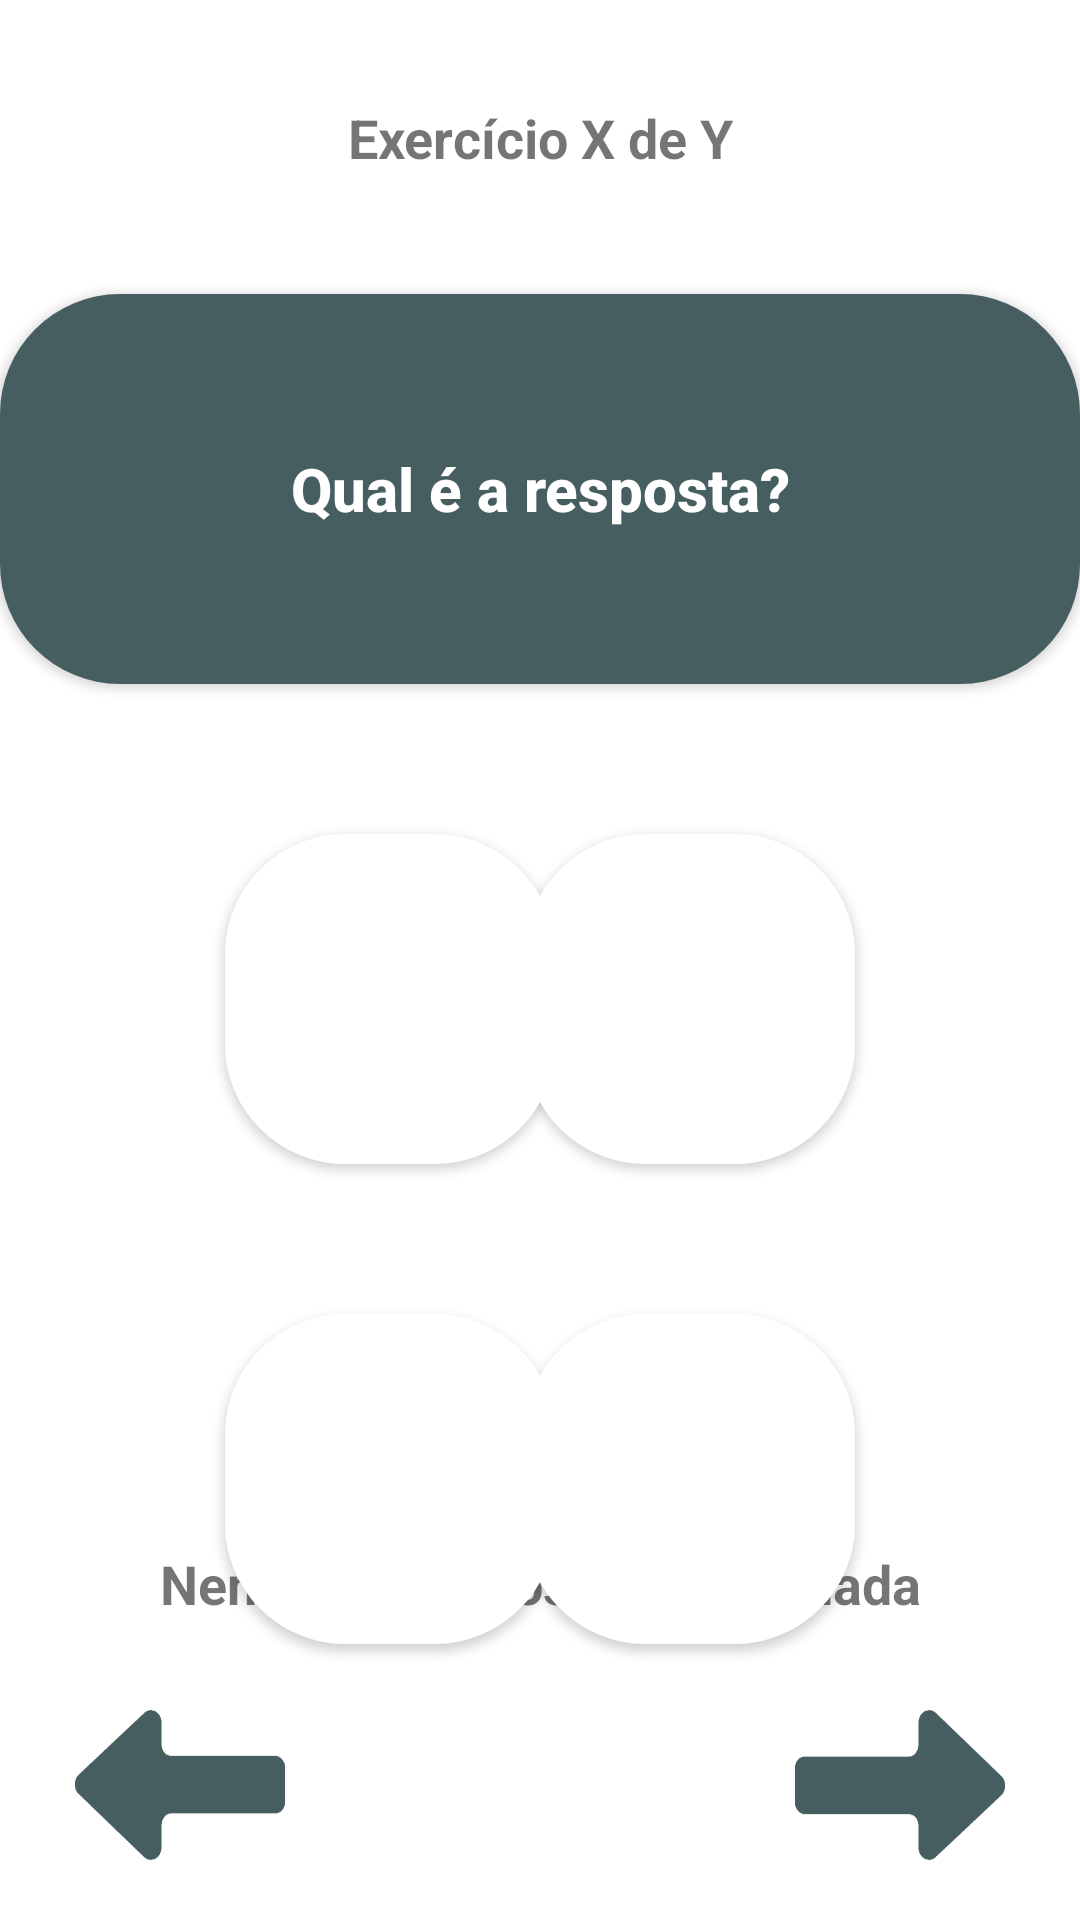

Named icons in this screenshot (1080w x 1920h) and their centers, (x=x, y=y):
next: (x=900, y=1785)
prev: (x=180, y=1785)
